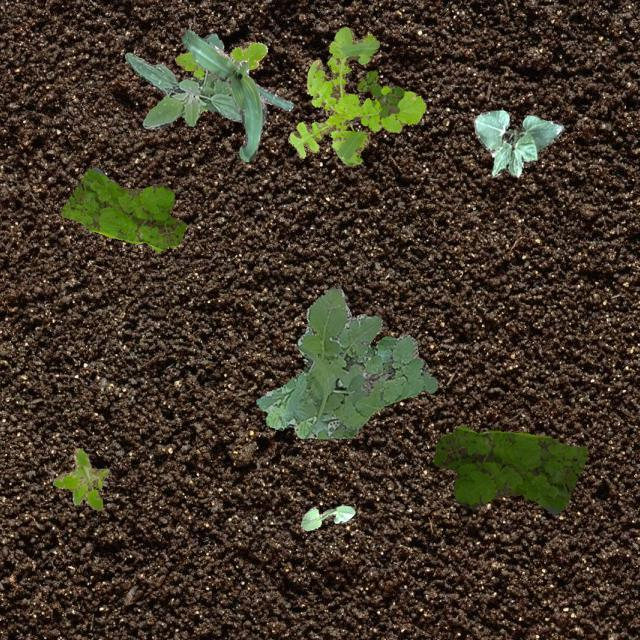crop: (180, 28, 292, 160), (472, 108, 562, 176), (300, 504, 354, 530)
weed: (256, 282, 424, 438), (286, 26, 424, 164), (432, 426, 586, 512), (124, 33, 242, 128), (61, 166, 186, 250), (352, 336, 436, 392), (175, 40, 266, 80), (52, 446, 108, 509), (356, 70, 402, 116)
